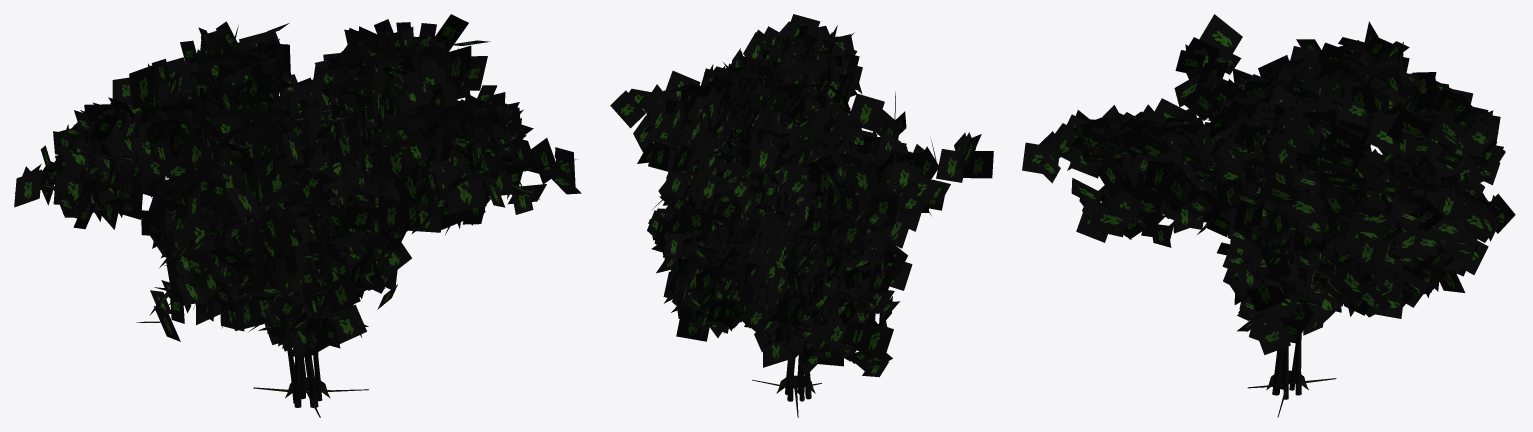
File: Shrub_Spicebush_2.glb
3 views of the same model, side by side, from view 1: azimuth 30°, elevation 25°; view 2: azimuth 150°, elevation 25°; view 3: azimuth 270°, elevation 25° (orthographic). The views are drawn at different scales.
Parts seen in each view (by area): view 1: Shrub_Spicebush_2; view 2: Shrub_Spicebush_2; view 3: Shrub_Spicebush_2.
Boxes of the visible parts, x1,y1,x2,y2 form: Shrub_Spicebush_2: (14,14,581,417); Shrub_Spicebush_2: (610,14,993,417); Shrub_Spicebush_2: (1022,14,1515,417).
Bounding box in the file's own units: 3.55 × 3.08 × 4.18.
Materials: 1 (1 with a texture image).
